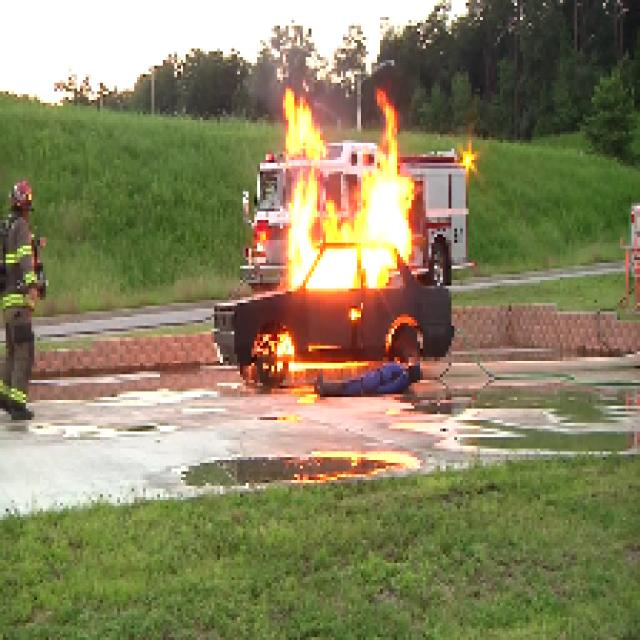fire: (282, 93, 408, 299)
